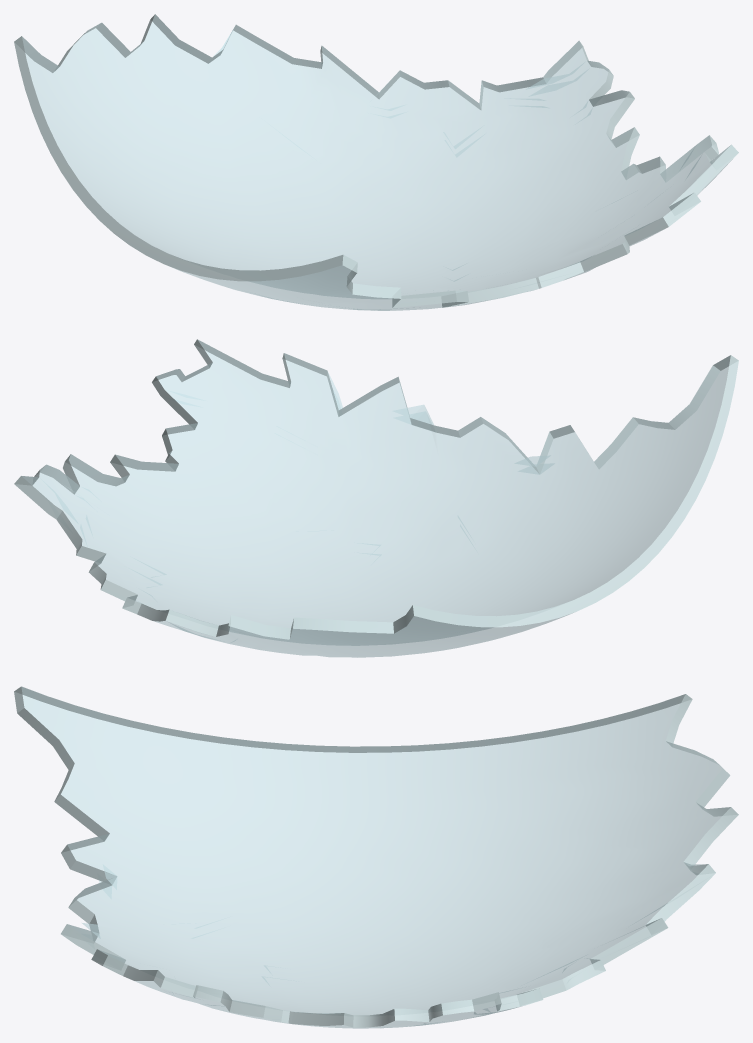
File: SM_DomeShard_4.fbx
3 renders of one model, top to bottom at view 1: azimuth 30°, elevation 25°; view 2: azimuth 150°, elevation 25°; view 3: azimuth 270°, elevation 25°, orthographic. The views are drawn at different scales.
Parts seen in each view (by area): view 1: SM_DomeShard_4; view 2: SM_DomeShard_4; view 3: SM_DomeShard_4.
Boxes of the visible parts, box(x1,y1,x2,y2) form: SM_DomeShard_4: box(14, 14, 738, 310); SM_DomeShard_4: box(14, 339, 738, 657); SM_DomeShard_4: box(14, 686, 738, 1028).
Size of the model in its own units: 1.06 by 0.3321 by 1.19.
